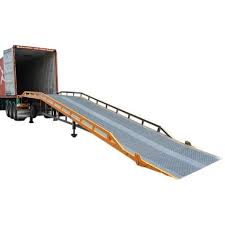Yard Ramp: (20, 90, 224, 179)
